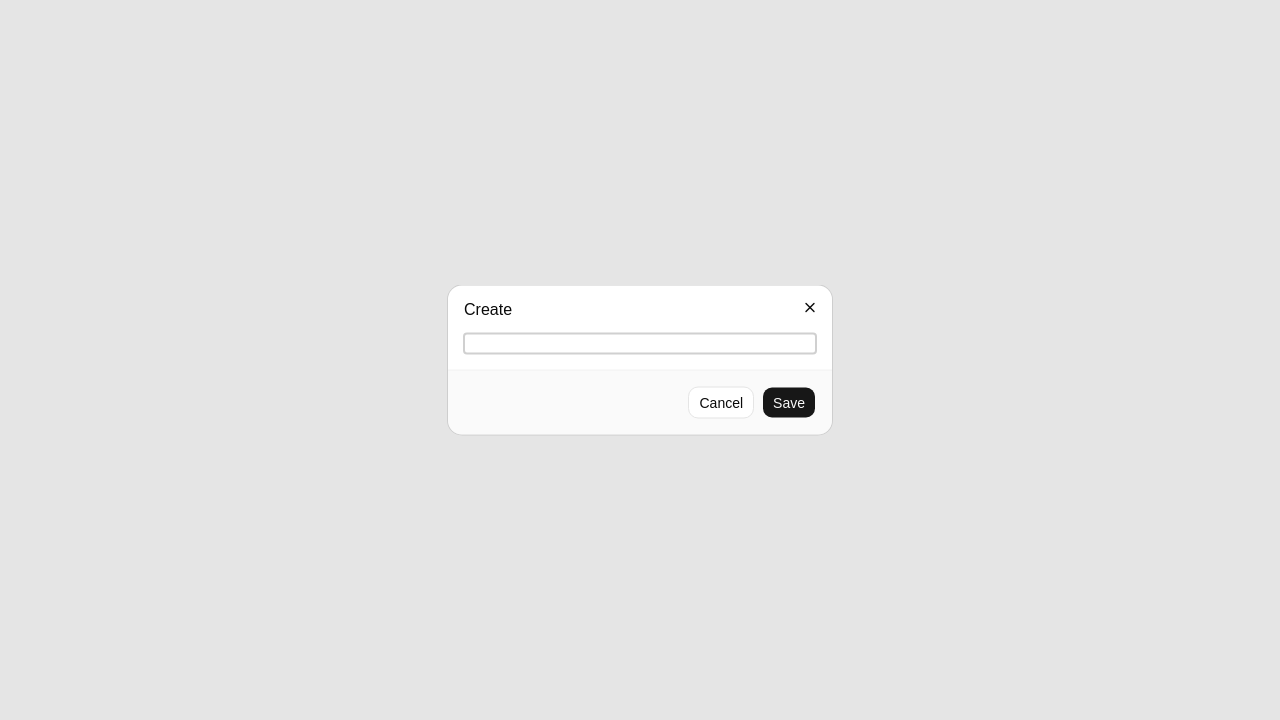
Scenario: stays open on input errors and shows server errors
Click the button "Save".
click(789, 402)  # box [762,386,816,418]
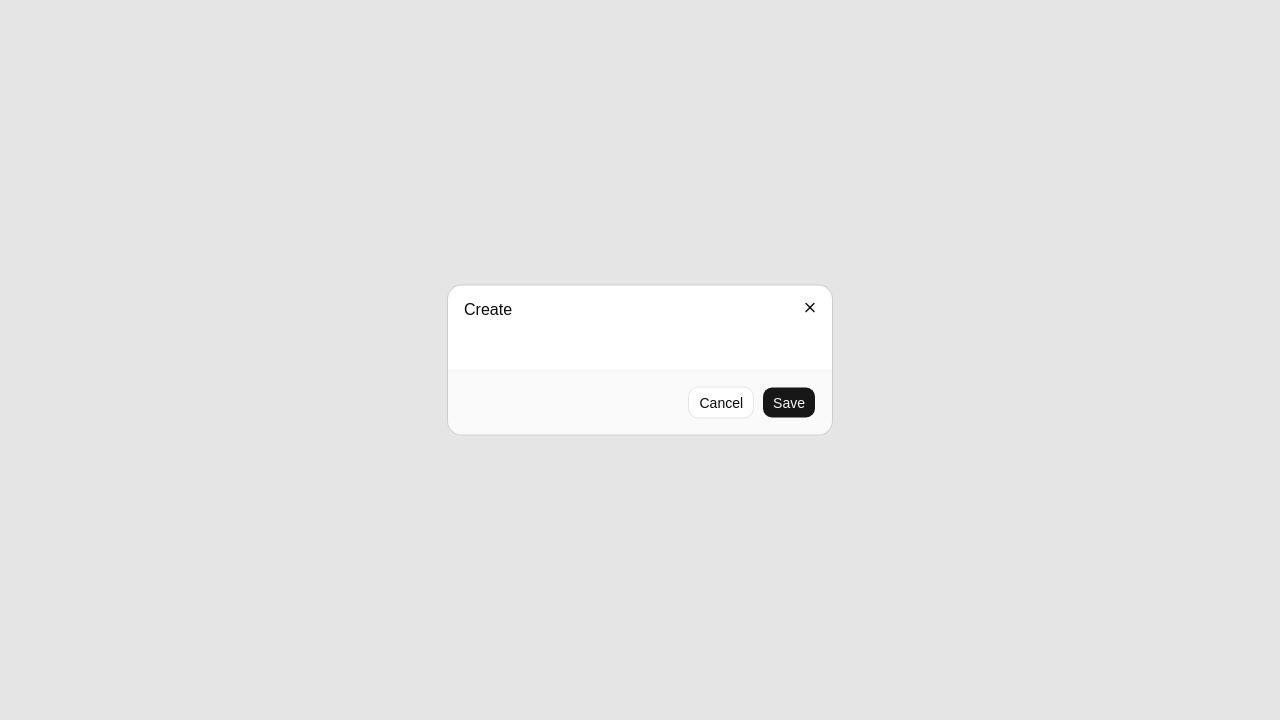
Click the button "Save".
click(789, 402)  # box [762,386,816,418]
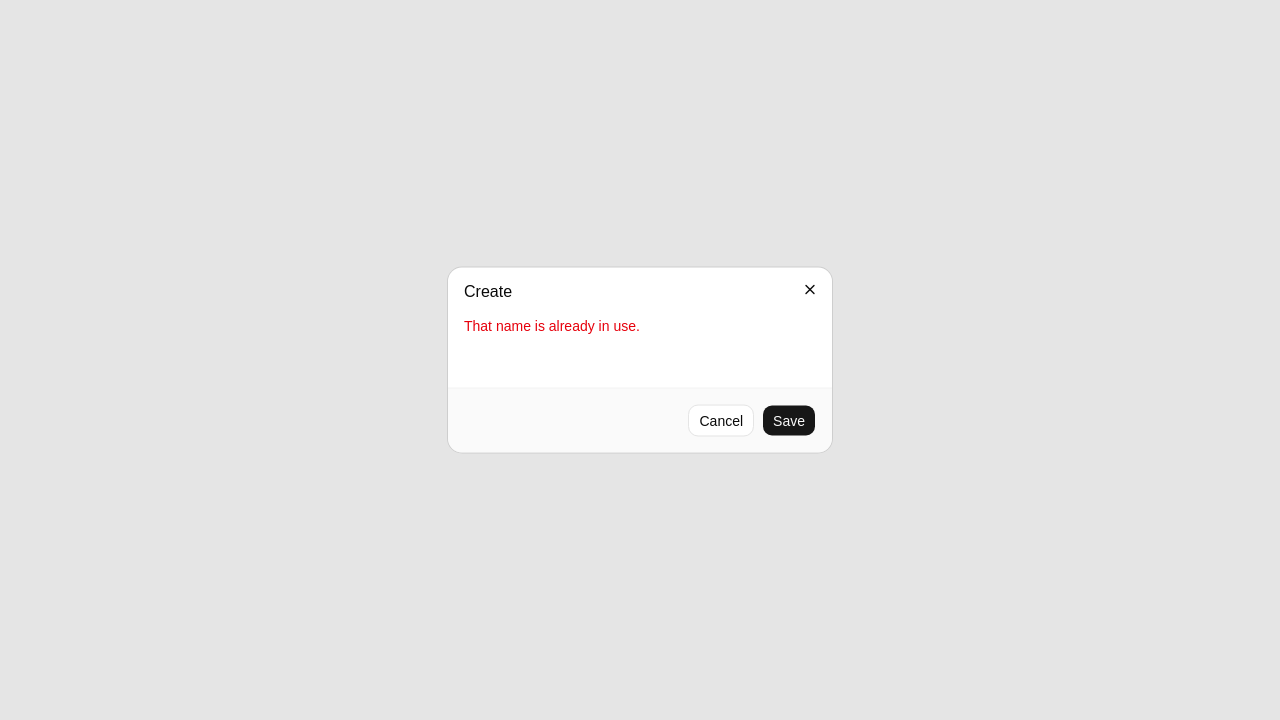
Result: the message reads "That name is already in use." at [464,318,640,334]
